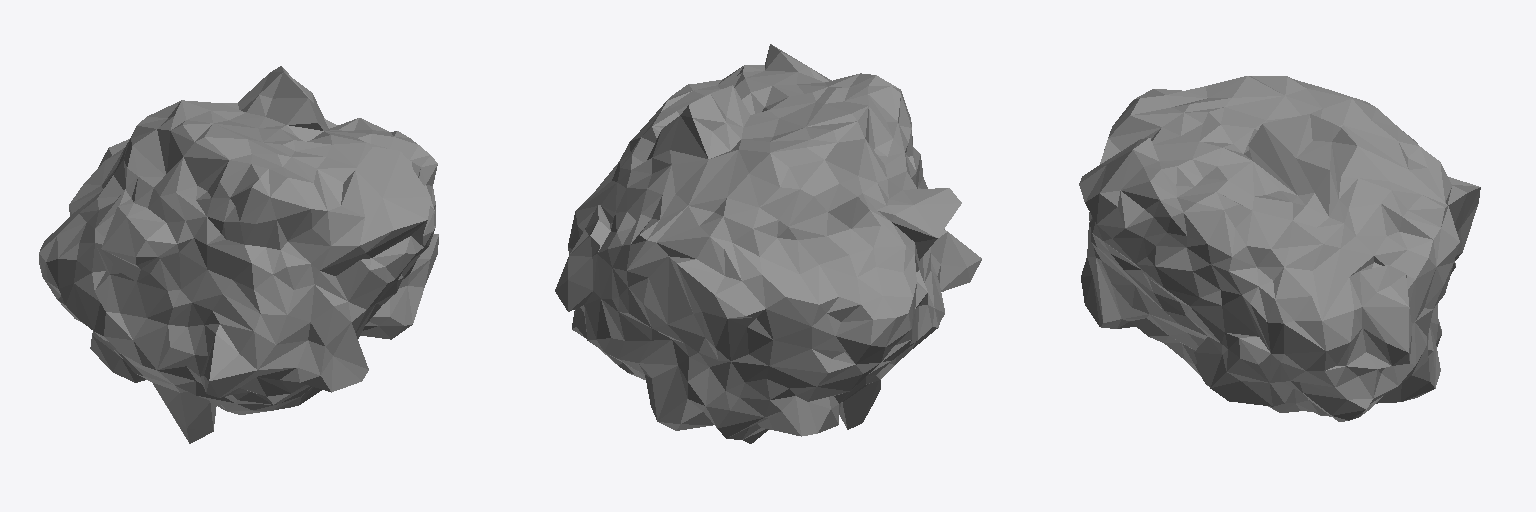
The model's file is Asteroid_2.obj.
3 views of the same model, side by side, from view 1: azimuth 30°, elevation 25°; view 2: azimuth 150°, elevation 25°; view 3: azimuth 270°, elevation 25° (orthographic).
Visible parts, largest first — view 1: Asteroid_2; view 2: Asteroid_2; view 3: Asteroid_2.
Part boxes in pixels (bbox=[...]): Asteroid_2: bbox=[39, 66, 438, 443]; Asteroid_2: bbox=[555, 44, 981, 443]; Asteroid_2: bbox=[1079, 76, 1480, 421].
Bounding box in the file's own units: 96.1 × 85.31 × 95.3.